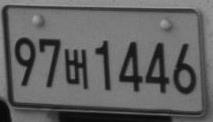1: (91, 39, 116, 90)
4: (118, 41, 144, 92), (144, 42, 169, 94)
6: (172, 42, 197, 94)
7: (38, 38, 61, 88)
9: (14, 36, 36, 86)
버: (63, 48, 88, 89)
